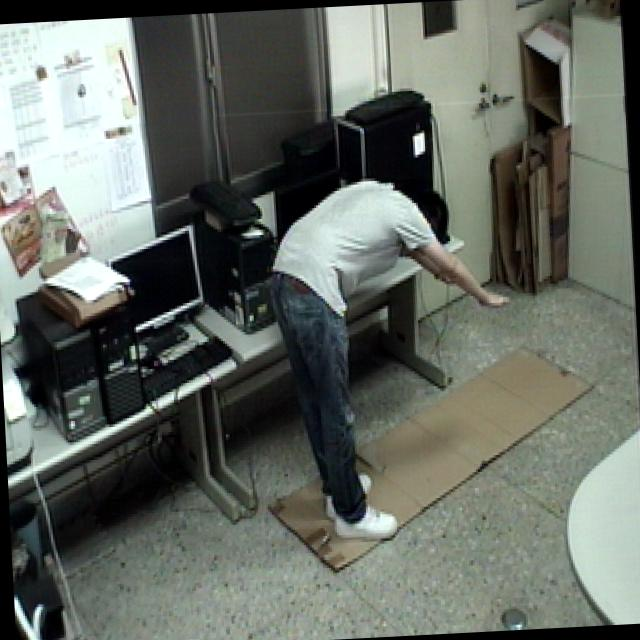bend: (262, 165, 528, 553)
